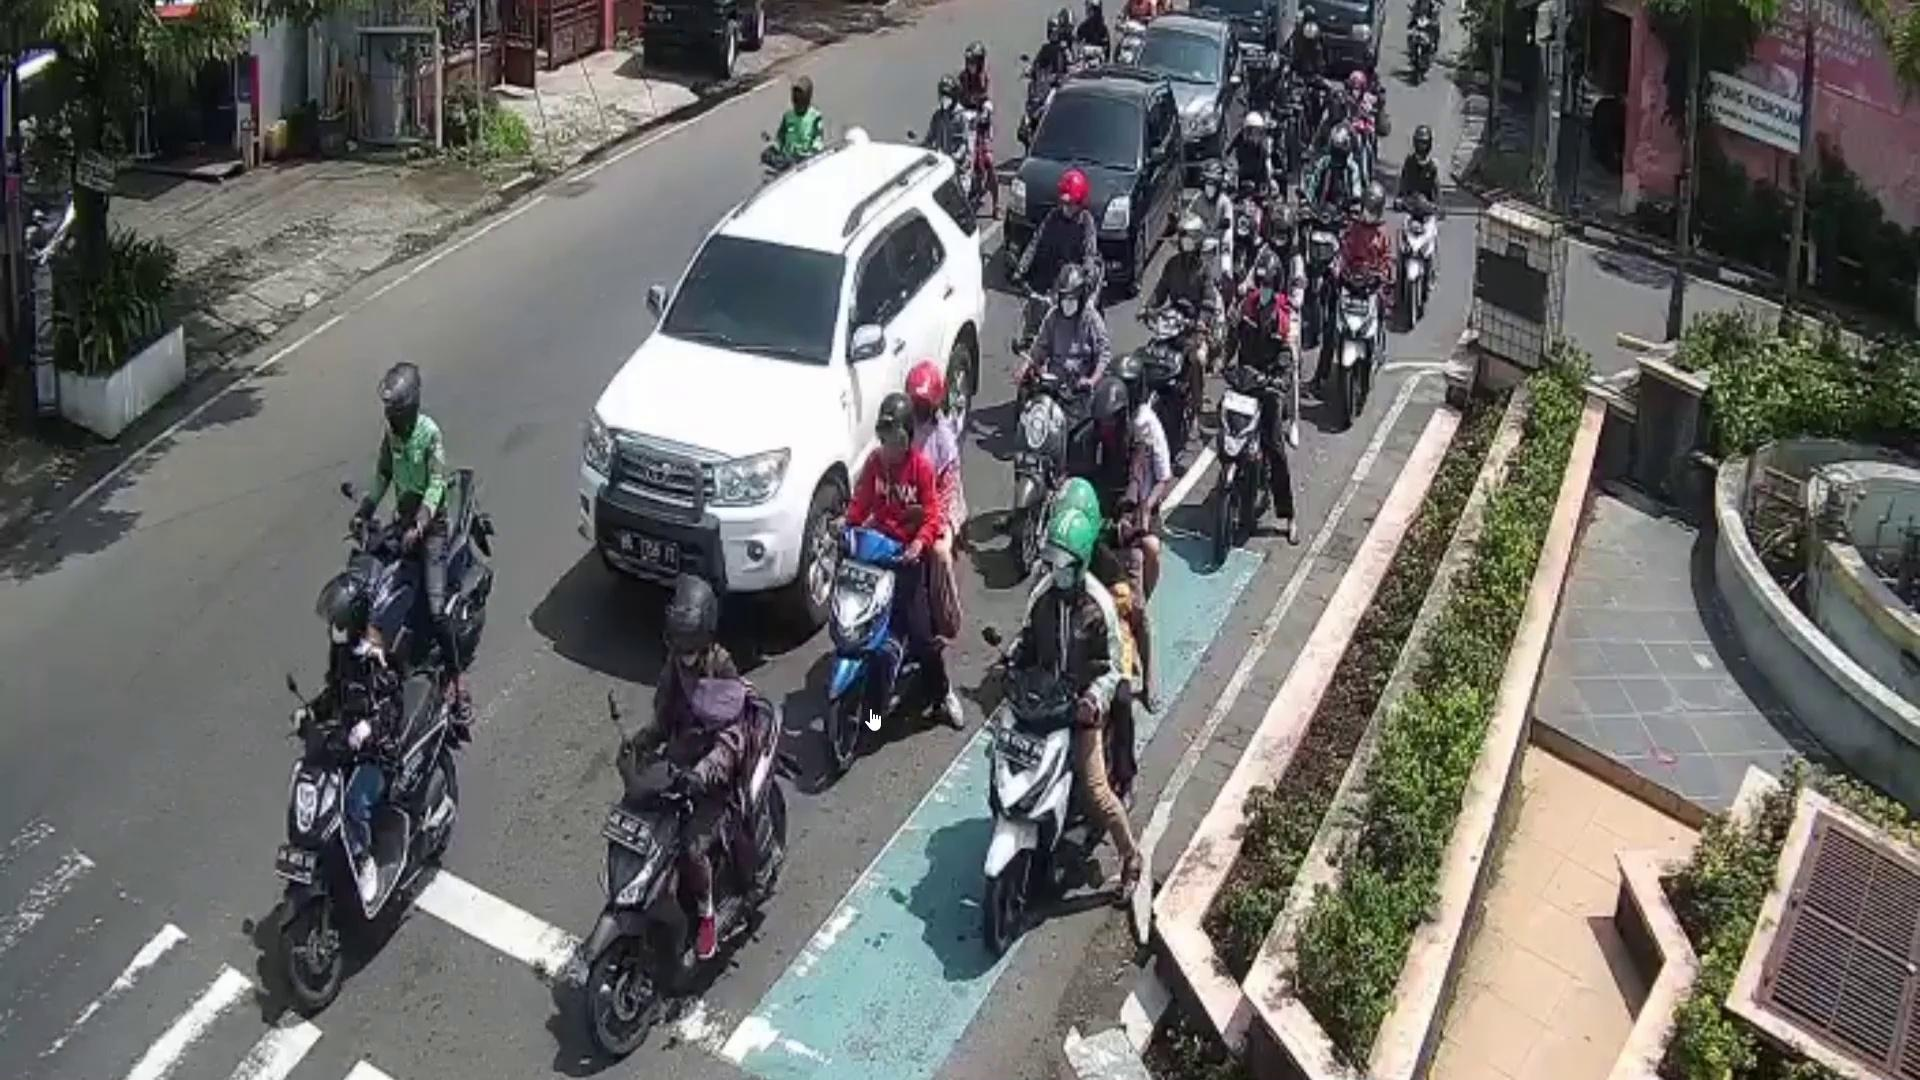car: (578, 135, 982, 632), (1002, 67, 1184, 298), (1124, 8, 1250, 181)
motorbike: (595, 692, 793, 1059), (293, 667, 459, 1013), (985, 663, 1080, 943), (345, 473, 492, 649), (827, 531, 909, 769), (1212, 360, 1276, 564), (1013, 373, 1068, 574), (1329, 264, 1381, 411), (1402, 195, 1437, 324)
